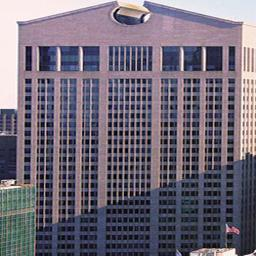building: (13, 1, 243, 256)
